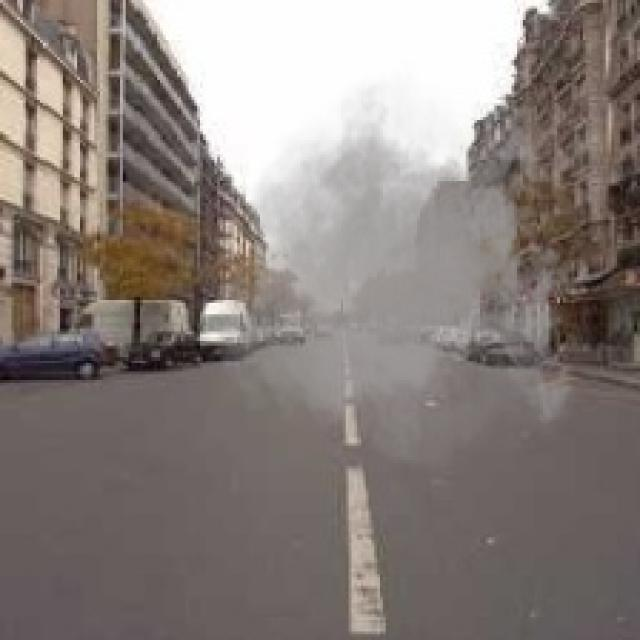Smoke: (208, 60, 583, 486)
